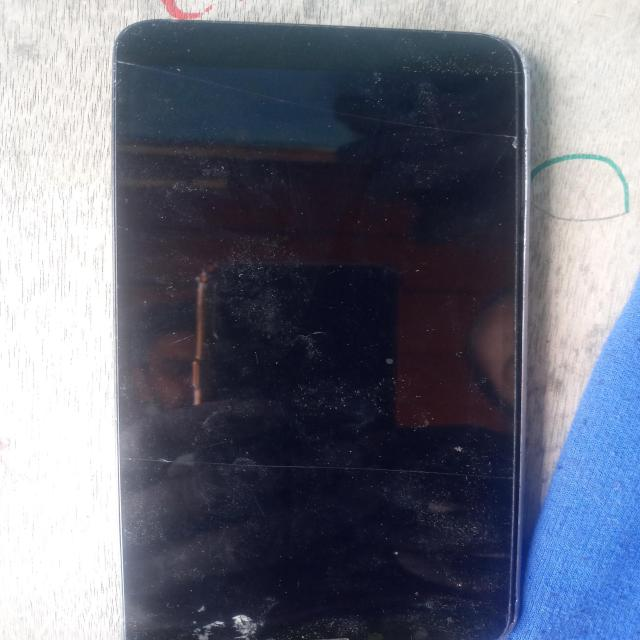mobile: (42, 19, 580, 640)
